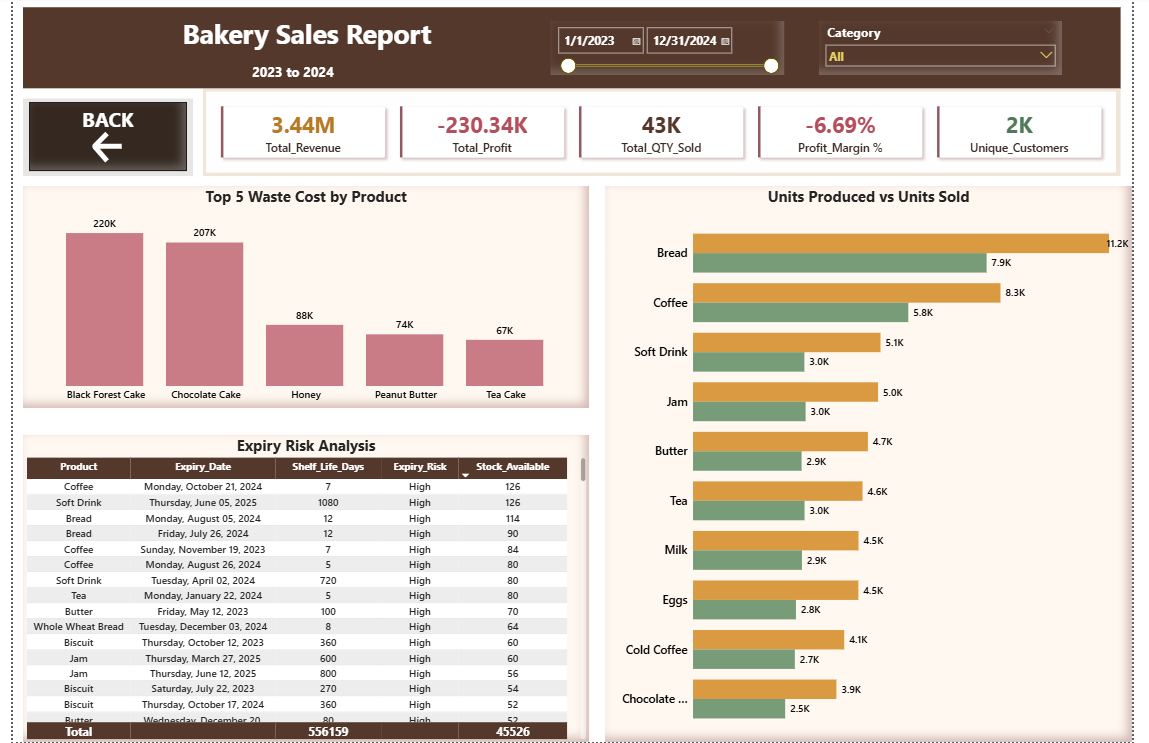

The dashboard page shown, as its layout file describes it:
{"tool":"powerbi","page":{"name":"Inventory and Waste Analysis","canvas":[1800,1200],"ordinal":3},"visuals":[{"type":"cardVisual","fields":{"Data":["bakery_sales bakery_dataset.Total_Revenue","bakery_sales bakery_dataset.Total_Profit","bakery_sales bakery_dataset.Total_QTY_Sold","bakery_sales bakery_dataset.Profit_Margin","bakery_sales bakery_dataset.Unique_Customers"]},"box":[305.6,148.8,1475.9,140.8],"z":0},{"type":"textbox","box":[16.1,18.1,1765.4,130.7],"z":1000},{"type":"textbox","box":[80.4,26.1,784.2,68.4],"z":2000},{"type":"textbox","box":[305.6,102.5,289.5,46.2],"z":3000},{"type":"clusteredBarChart","title":"Units Produced vs Units Sold","fields":{"Category":["bakery_sales bakery_dataset.Product"],"Y":["Sum(bakery_sales bakery_dataset.Units_Produced)","Sum(bakery_sales bakery_dataset.Units_Sold)"]},"box":[953.1,305.6,846.5,894.8],"z":4000},{"type":"tableEx","title":"Expiry Risk Analysis","fields":{"Values":["bakery_sales bakery_dataset.Product","bakery_sales bakery_dataset.Expiry_Date","Sum(bakery_sales bakery_dataset.Shelf_Life_Days)","bakery_sales bakery_dataset.Expiry_Risk","Sum(bakery_sales bakery_dataset.Stock_Available)"]},"box":[16.1,705.8,910.9,494.6],"z":5000},{"type":"textbox","box":[16.1,164.9,273.5,124.7],"z":6000},{"type":"columnChart","title":"Top 5 Waste Cost by Product","fields":{"Category":["bakery_sales bakery_dataset.Product"],"Y":["Sum(bakery_sales bakery_dataset.Waste_Cost)"]},"box":[16.1,305.6,910.9,357.9],"z":7000},{"type":"slicer","fields":{"Values":["bakery_sales bakery_dataset.Date"]},"box":[864.6,40.2,376,86.5],"z":8000},{"type":"slicer","fields":{"Values":["bakery_sales bakery_dataset.Category"]},"box":[1296.9,40.2,390.1,86.5],"z":9000},{"type":"actionButton","box":[26.1,170.9,253.4,110.6],"z":10000}]}

Visuals, with their boxes on the page's 1800x1200 design canvas (x1, y1, x2, y2). These are canvas units, not pixel positions in the 1149x743 screenshot, which may show the page scaled, cropped or inside an application window:
cardVisual - bakery_sales bakery_dataset.Total_Revenue x bakery_sales bakery_dataset.Total_Profit: x1=306 y1=149 x2=1782 y2=290
textbox: x1=16 y1=18 x2=1782 y2=149
textbox: x1=80 y1=26 x2=865 y2=94
textbox: x1=306 y1=102 x2=595 y2=149
"Units Produced vs Units Sold" clusteredBarChart: x1=953 y1=306 x2=1800 y2=1200
"Expiry Risk Analysis" tableEx: x1=16 y1=706 x2=927 y2=1200
textbox: x1=16 y1=165 x2=290 y2=290
"Top 5 Waste Cost by Product" columnChart: x1=16 y1=306 x2=927 y2=664
slicer - bakery_sales bakery_dataset.Date: x1=865 y1=40 x2=1241 y2=127
slicer - bakery_sales bakery_dataset.Category: x1=1297 y1=40 x2=1687 y2=127
actionButton: x1=26 y1=171 x2=280 y2=282
